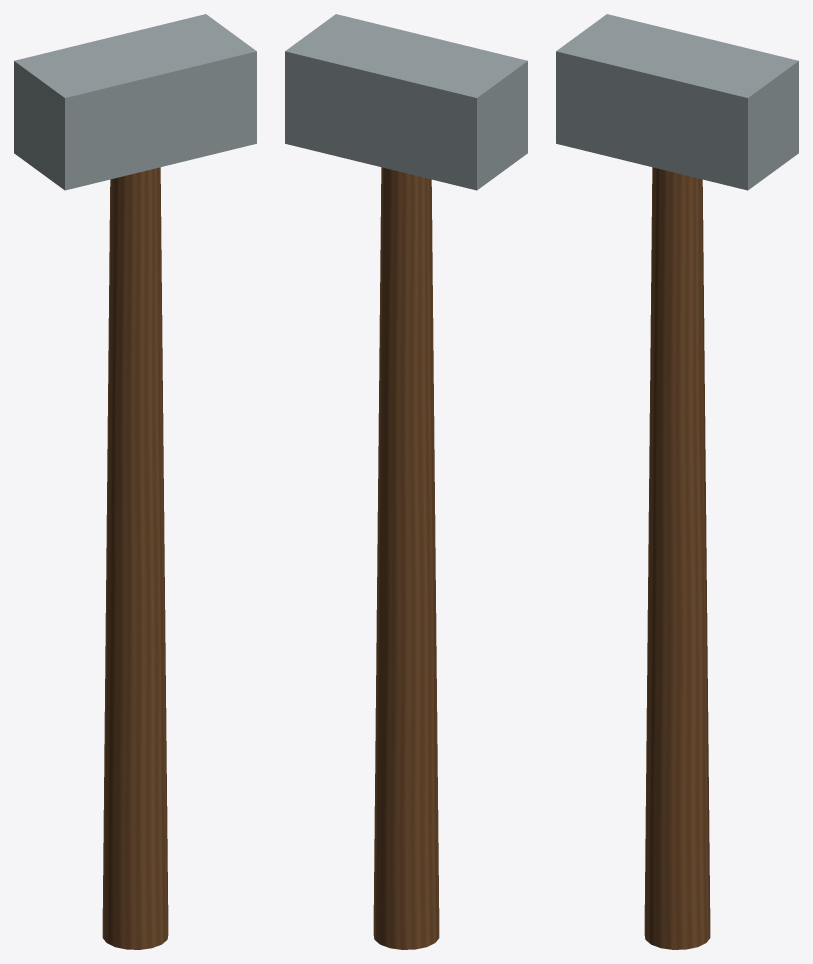
Rendered from prop-hammer.gltf.
3 renders of one model, left to right at view 1: azimuth 30°, elevation 25°; view 2: azimuth 150°, elevation 25°; view 3: azimuth 330°, elevation 25°, orthographic.
Parts seen in each view (by area): view 1: hammer; view 2: hammer; view 3: hammer.
Part boxes in pixels (left/top/right/bottom): hammer: left=14, top=14, right=256, bottom=949; hammer: left=285, top=14, right=527, bottom=949; hammer: left=556, top=14, right=798, bottom=949.
Size of the model in its own units: 0.1 by 0.438 by 0.046.
Materials: 2 (1 with a texture image).
